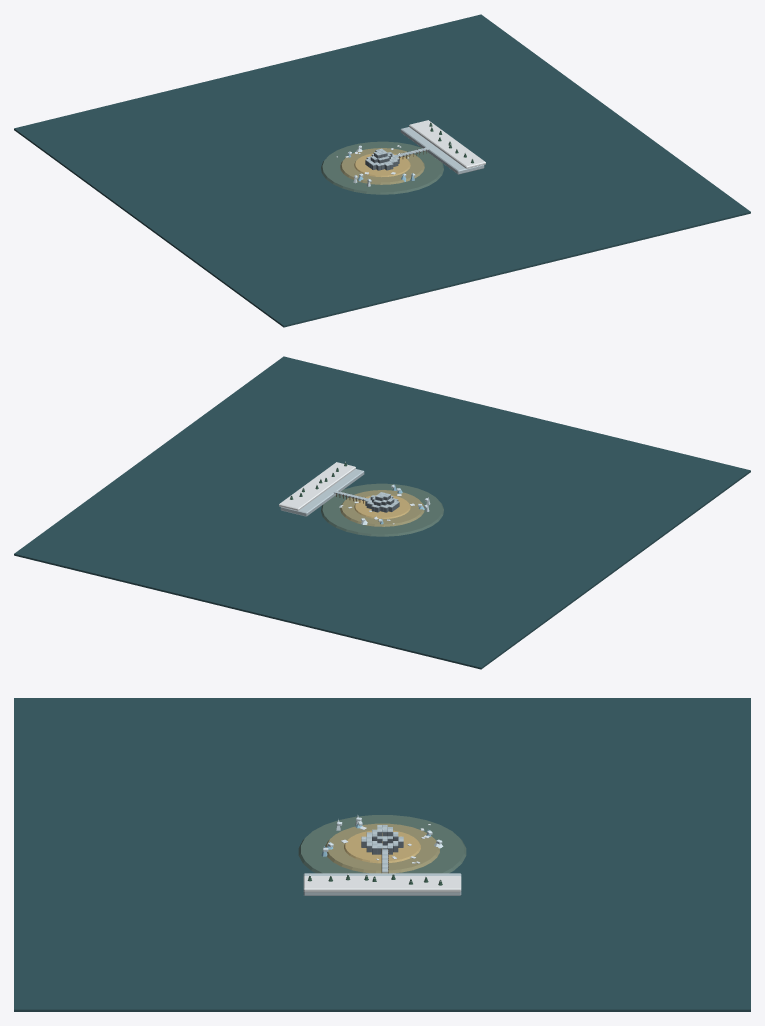
The model's file is island-calving.glb.
3 renders of one model, top to bottom at view 1: azimuth 30°, elevation 25°; view 2: azimuth 150°, elevation 25°; view 3: azimuth 270°, elevation 25°, orthographic. The views are drawn at different scales.
Visible parts, largest first — view 1: The Calving; view 2: The Calving; view 3: The Calving.
Boxes of the visible parts, <box> form: The Calving: <box>14,14,750,327</box>; The Calving: <box>14,356,750,669</box>; The Calving: <box>14,698,750,1011</box>.
Size of the model in its own units: 140 by 5.72 by 140.
